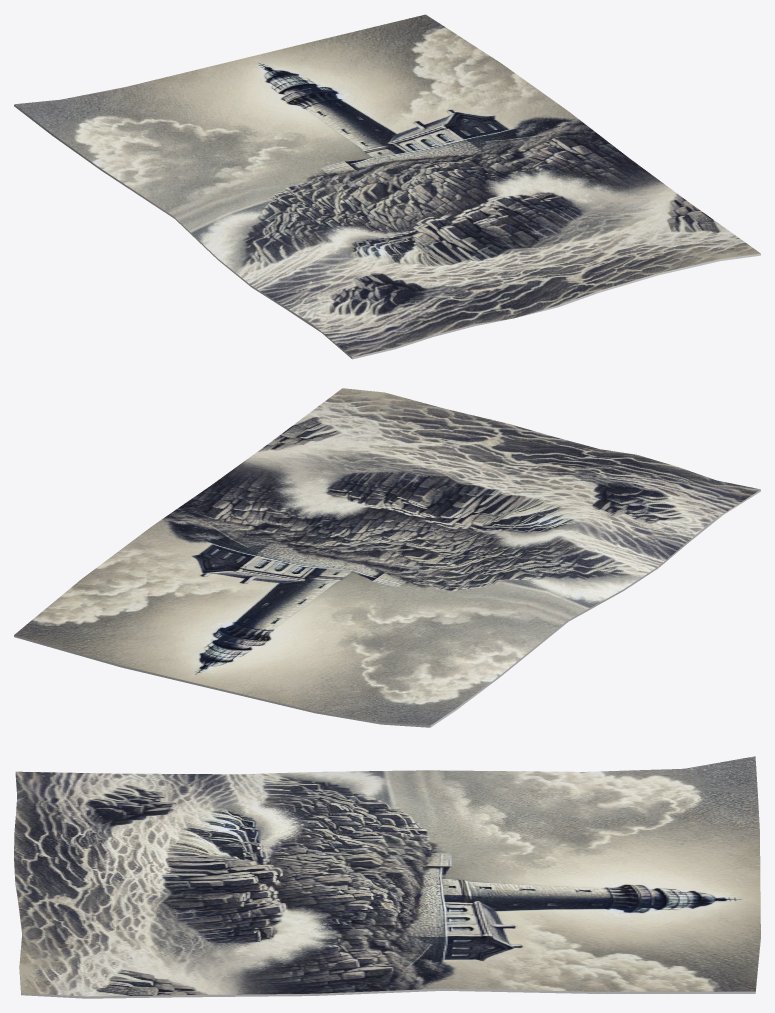
The model's file is SM_Sheet_3.glb.
The picture shows the model from 3 angles, top to bottom: view 1: azimuth 30°, elevation 25°; view 2: azimuth 150°, elevation 25°; view 3: azimuth 270°, elevation 25°; orthographic projection. The views are drawn at different scales.
Parts seen in each view (by area): view 1: SM_Sheet_3; view 2: SM_Sheet_3; view 3: SM_Sheet_3.
Part boxes in pixels (box(x1,y1,x2,y2)): SM_Sheet_3: box(14, 14, 760, 359); SM_Sheet_3: box(14, 388, 760, 727); SM_Sheet_3: box(14, 756, 760, 998).
Bounding box in the file's own units: 0.3442 × 0.0137 × 0.478.
2 materials, 2 textured.
